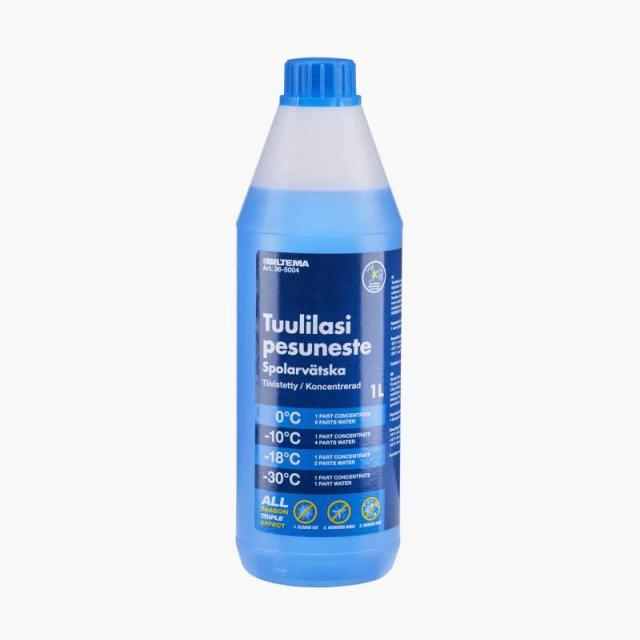winwinshield_washer: (233, 50, 404, 590)
